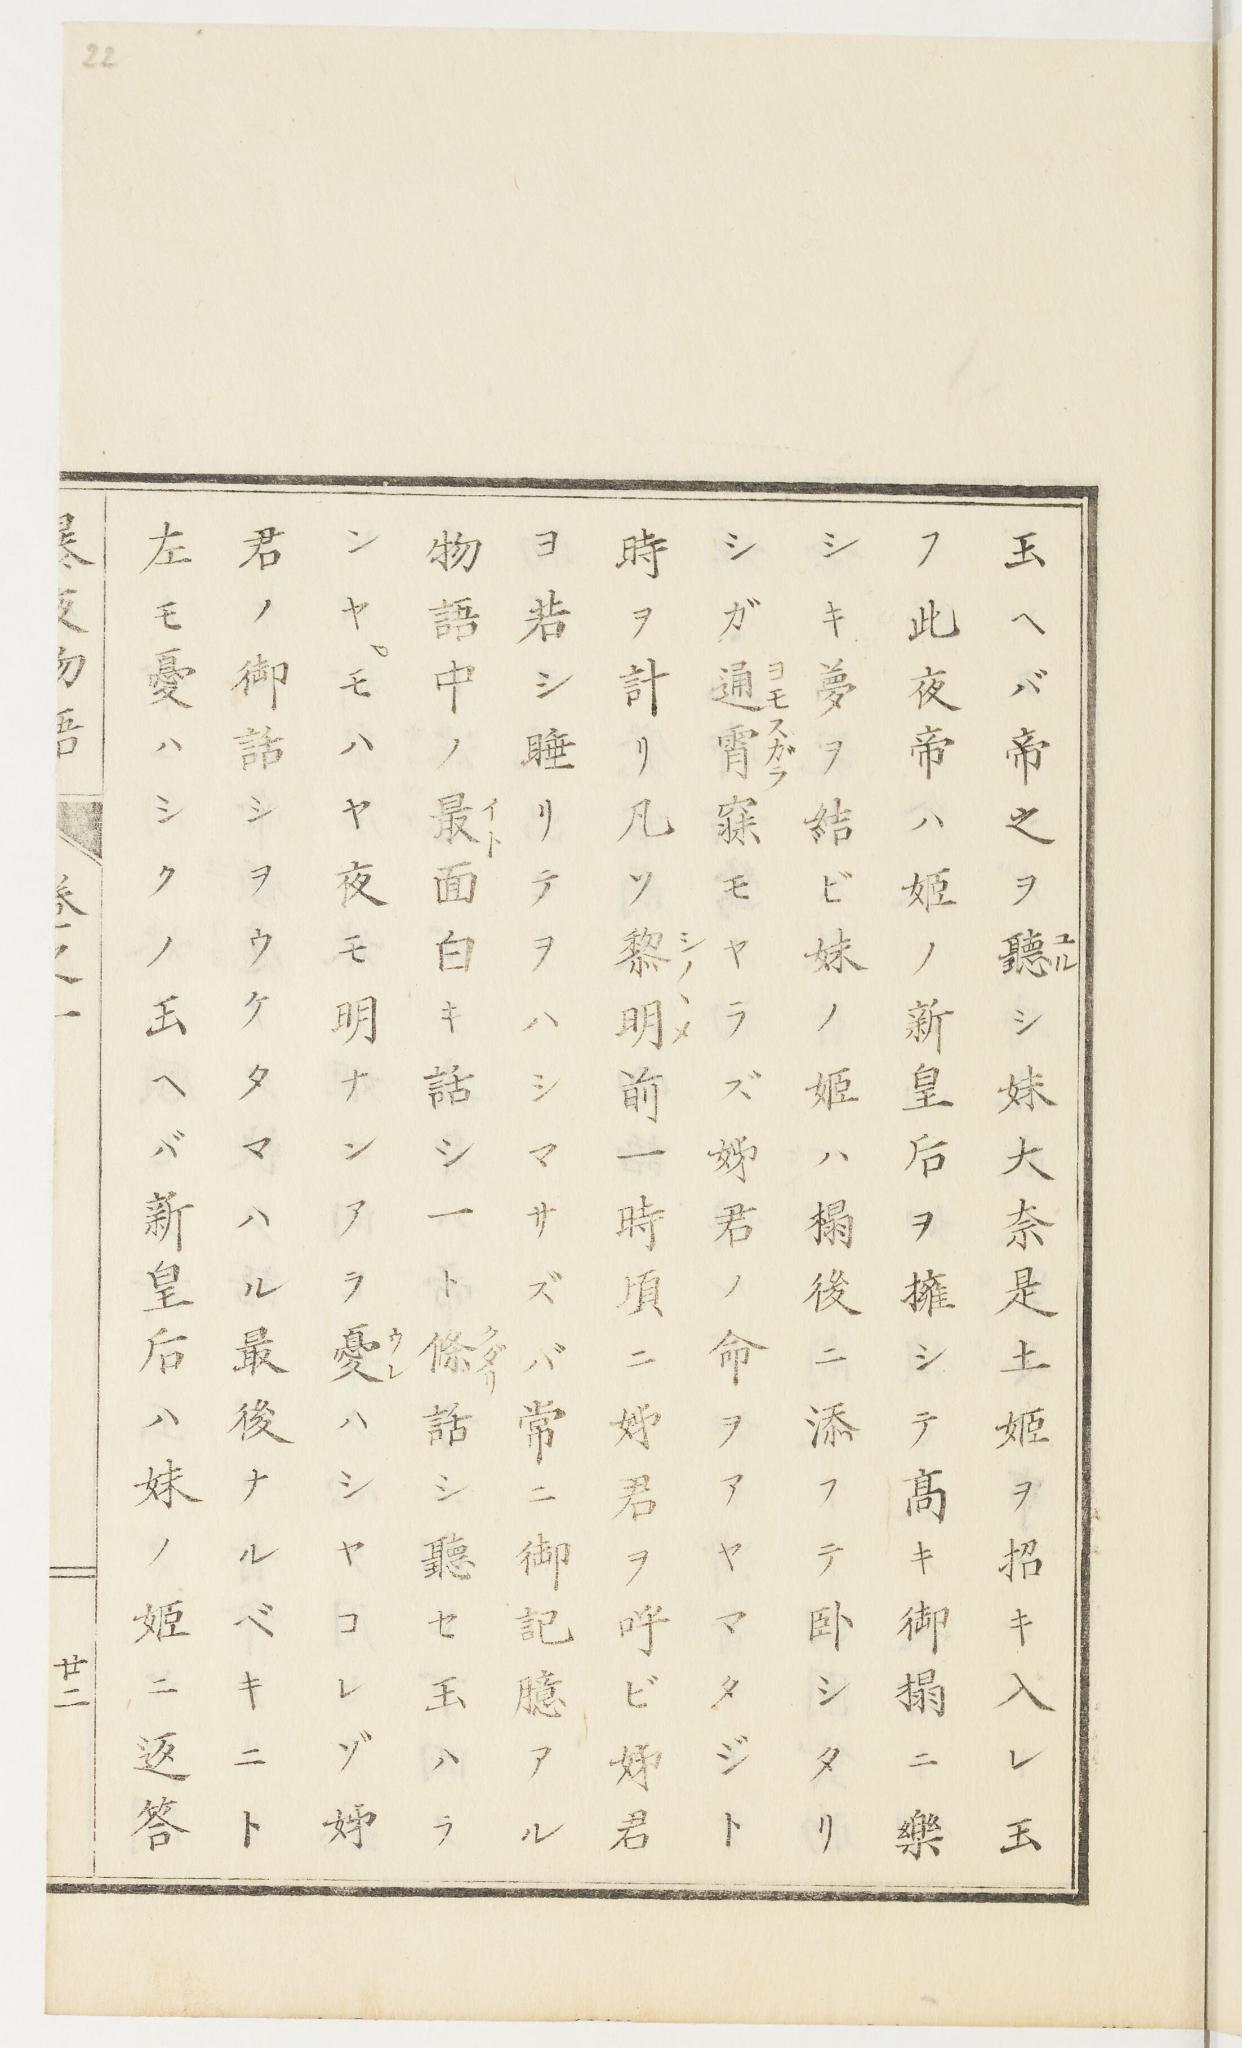MainZone-Character: (705, 712, 799, 791), (613, 983, 701, 1055), (325, 1317, 405, 1393), (420, 1321, 503, 1393), (429, 787, 509, 859), (611, 922, 704, 983), (996, 920, 1078, 986), (707, 655, 791, 715)
MainZone-Ruby: (762, 715, 797, 793), (480, 1324, 509, 1391), (480, 793, 506, 860), (382, 1322, 407, 1379), (765, 657, 790, 712), (1053, 925, 1081, 973), (677, 926, 701, 983), (669, 990, 693, 1042)
